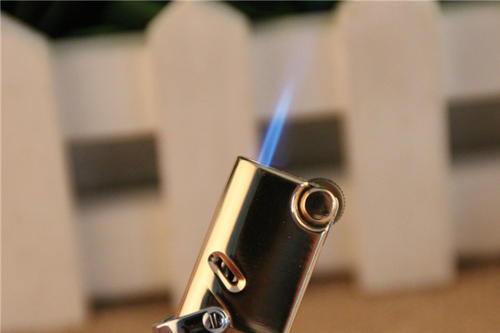fire: (255, 47, 302, 186)
